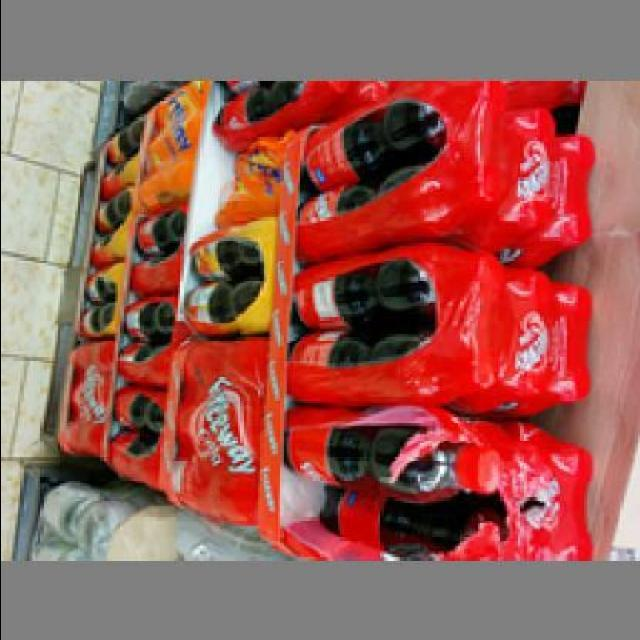Coke: (304, 77, 508, 189), (290, 400, 508, 494), (300, 234, 506, 332), (300, 157, 506, 246), (286, 326, 500, 403), (323, 483, 528, 554), (200, 214, 280, 280)
